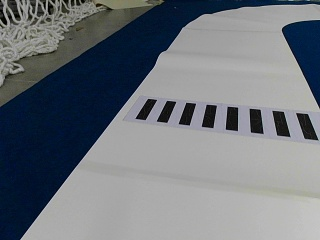crosswalk: (134, 98, 316, 139)
